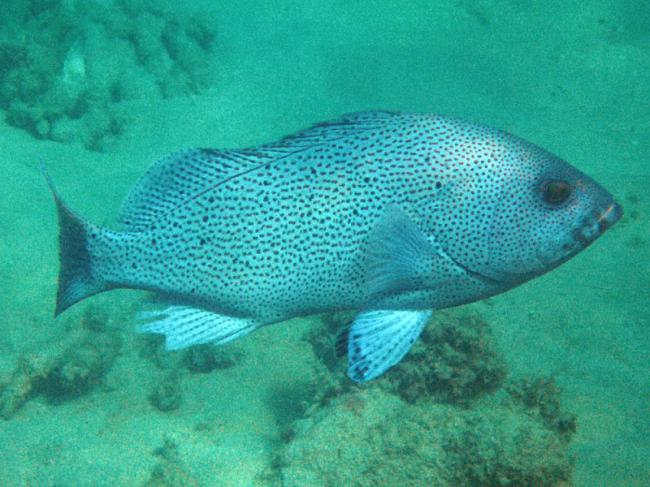fish: (45, 109, 623, 384)
